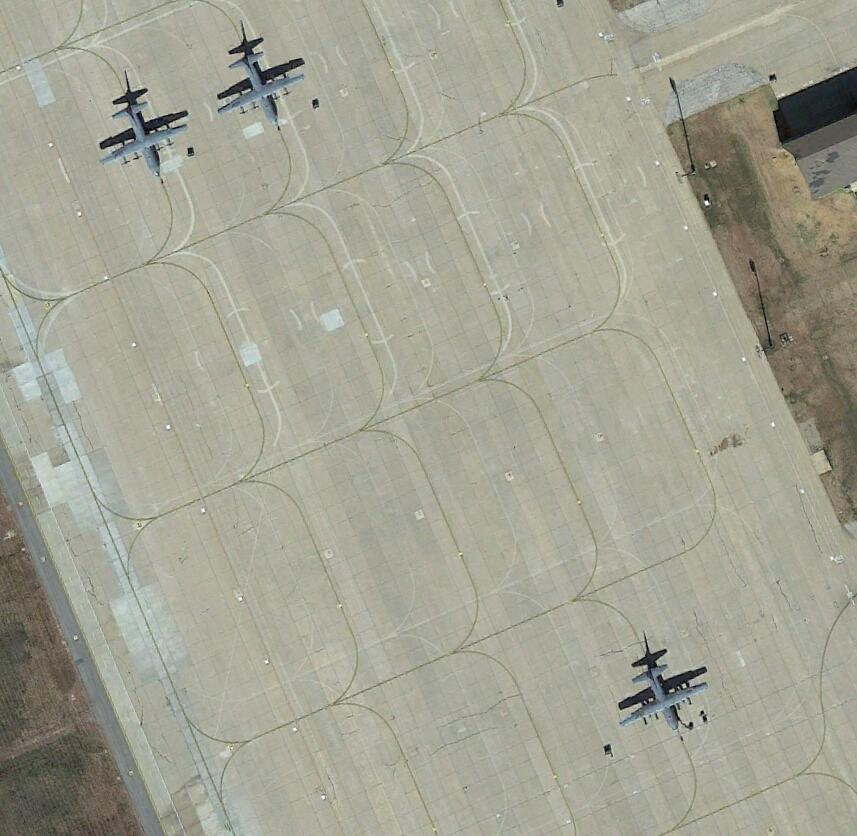A2: (211, 45, 311, 131), (95, 93, 193, 178), (621, 655, 713, 736)
